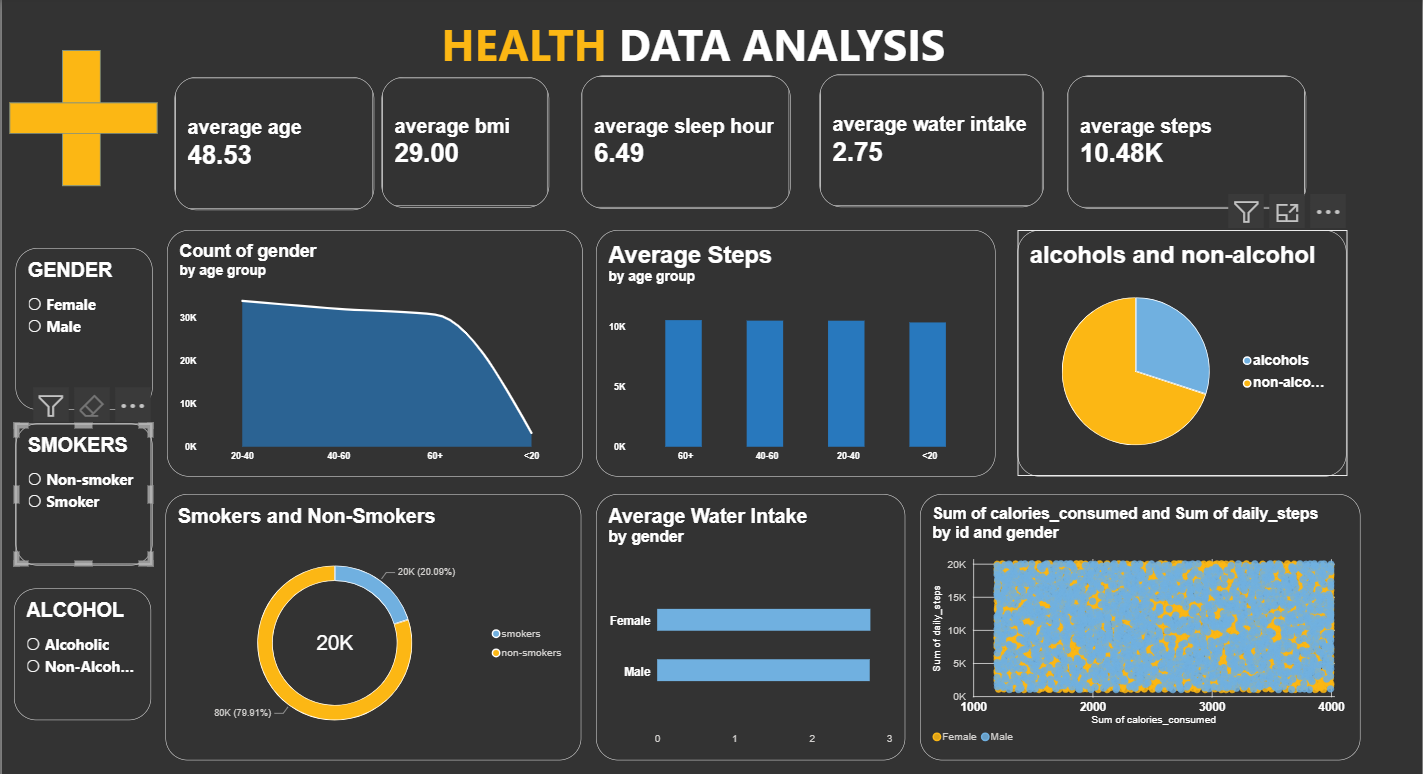

The dashboard page shown, as its layout file describes it:
{"tool":"powerbi","page":{"name":"Page 1","canvas":[1920,1080],"ordinal":0},"visuals":[{"type":"cardVisual","fields":{"Data":["Health data.average age"]},"box":[233.3,108.9,270,180],"z":0},{"type":"cardVisual","fields":{"Data":["Health data.average bmi"]},"box":[513.3,108.9,226.7,176.7],"z":1000},{"type":"cardVisual","fields":{"Data":["Health data.average sleep hour"]},"box":[782.2,106.7,283.3,180],"z":2000},{"type":"cardVisual","fields":{"Data":["Health data.average water intake"]},"box":[1106,106,303.3,180],"z":3000},{"type":"cardVisual","fields":{"Data":["Health data.average steps"]},"box":[1440,106.7,323.3,180],"z":4000},{"type":"clusteredColumnChart","title":"Average Steps","fields":{"Category":["Health data.age group"],"Y":["Health data.average steps"]},"box":[802.2,315.6,540,333.3],"z":5000},{"type":"donutChart","title":"Smokers and Non-Smokers","fields":{"Y":["Health data.smokers","Health data.non-smokers"]},"box":[220,673.3,562.2,360],"z":6000},{"type":"pieChart","fields":{"Y":["Health data.alcohols","Health data.non-alcohol"]},"box":[1373.3,315.6,444.4,333.3],"z":7000},{"type":"scatterChart","fields":{"X":["Sum(Health data.calories_consumed)"],"Y":["Sum(Health data.daily_steps)"],"Series":["Health data.gender"],"Category":["Health data.id"]},"box":[1240,673.3,595.6,360],"z":8000},{"type":"barChart","title":"Average Water Intake","fields":{"Y":["Health data.average water intake"],"Category":["Health data.gender"]},"box":[802.2,673.3,417.8,360],"z":9000},{"type":"listSlicer","title":"GENDER","fields":{"Values":["Health data.gender"]},"box":[17.8,340,185,218.3],"z":10000},{"type":"listSlicer","title":"SMOKERS","fields":{"Values":["Health data.all smokers"]},"box":[17.8,577.8,185,191.7],"z":11000},{"type":"listSlicer","title":"ALCOHOL","fields":{"Values":["Health data.all alcohol"]},"box":[15.6,800,185,178],"z":12000},{"type":"stackedAreaChart","fields":{"Category":["Health data.age group"],"Y":["CountNonNull(Health data.gender)"]},"box":[222.2,315.6,562.2,333.3],"z":13000},{"type":"shape","box":[81.8,72.7,52.2,184],"z":14000},{"type":"shape","box":[11.1,144.4,200,42.2],"z":15000},{"type":"textbox","box":[593.3,24.4,684.4,84.4],"z":16000}]}

Visuals, with their boxes in screenshot pixels (x1, y1, x2, y2):
cardVisual - Health data.average age: locate(252, 126, 436, 249)
cardVisual - Health data.average bmi: locate(443, 126, 597, 247)
cardVisual - Health data.average sleep hour: locate(626, 125, 819, 247)
cardVisual - Health data.average water intake: locate(847, 124, 1054, 247)
cardVisual - Health data.average steps: locate(1075, 125, 1295, 247)
"Average Steps" clusteredColumnChart: locate(640, 267, 1008, 495)
"Smokers and Non-Smokers" donutChart: locate(243, 511, 626, 757)
pieChart - Health data.alcohols x Health data.non-alcohol: locate(1029, 267, 1333, 495)
scatterChart - Sum(Health data.calories_consumed) x Sum(Health data.daily_steps): locate(938, 511, 1345, 757)
"Average Water Intake" barChart: locate(640, 511, 925, 757)
"GENDER" listSlicer: locate(105, 284, 231, 433)
"SMOKERS" listSlicer: locate(105, 446, 231, 577)
"ALCOHOL" listSlicer: locate(103, 598, 229, 719)
stackedAreaChart - Health data.age group x CountNonNull(Health data.gender): locate(244, 267, 628, 495)
shape: locate(148, 101, 184, 227)
shape: locate(100, 150, 237, 179)
textbox: locate(497, 69, 964, 126)
